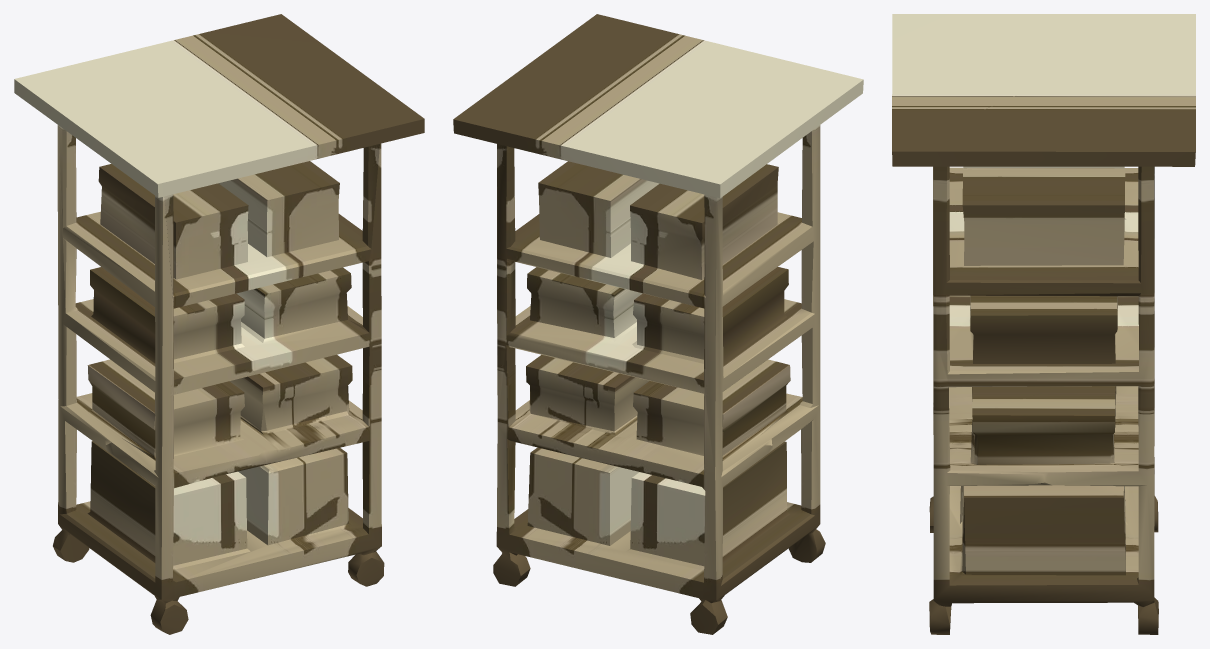
The picture shows the model from 3 angles, left to right: view 1: azimuth 30°, elevation 25°; view 2: azimuth 150°, elevation 25°; view 3: azimuth 270°, elevation 25°; orthographic projection. The views are drawn at different scales.
Visible parts, largest first — view 1: Decor_kiosk_cart_b; view 2: Decor_kiosk_cart_b; view 3: Decor_kiosk_cart_b.
Part boxes in pixels (x1=…): Decor_kiosk_cart_b: x1=14, y1=14, x2=424, y2=634; Decor_kiosk_cart_b: x1=453, y1=14, x2=863, y2=634; Decor_kiosk_cart_b: x1=892, y1=14, x2=1195, y2=634.
Size of the model in its own units: 1.36 by 2.29 by 1.26.
1 material, 1 textured.
